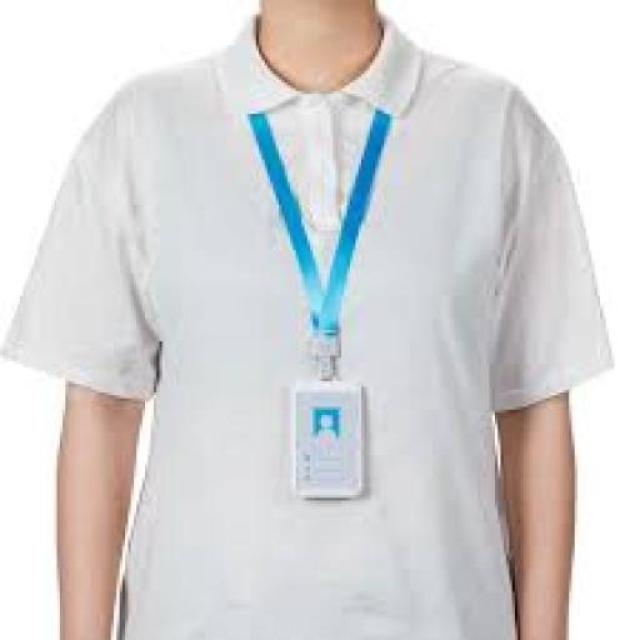id_card: (242, 108, 389, 500)
